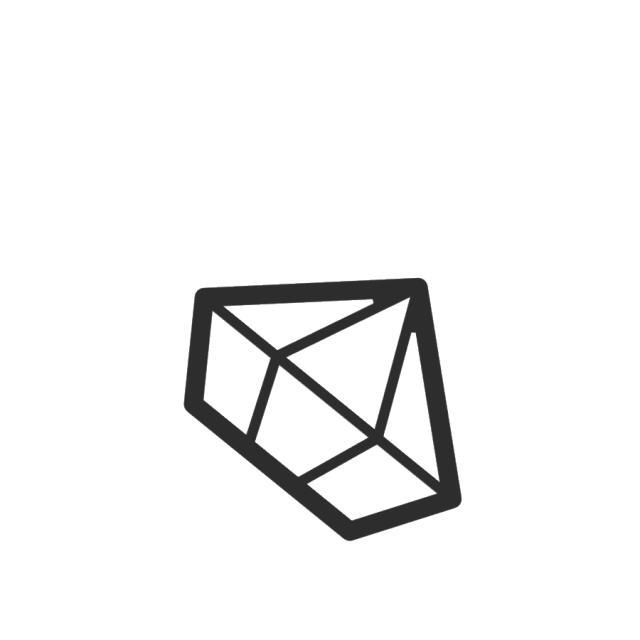diamond: (177, 275, 467, 548)
